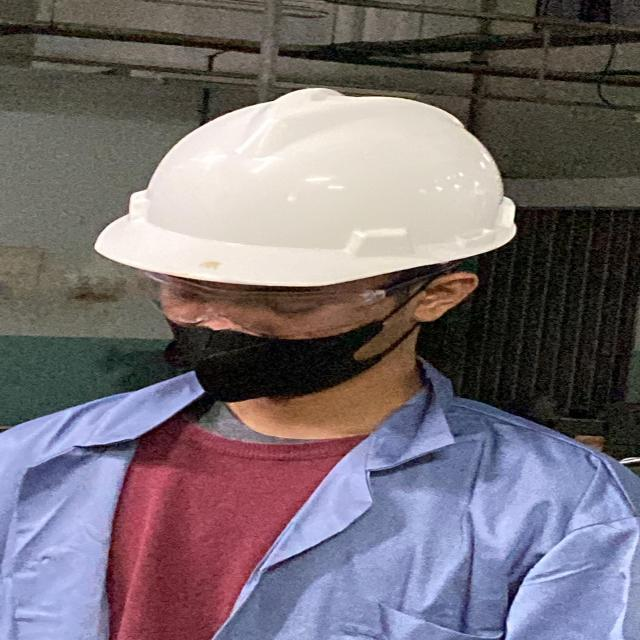glasses: (120, 260, 417, 336)
